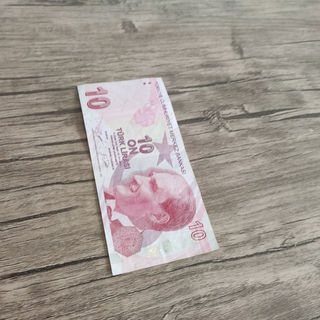10TLFront: (75, 75, 221, 277)
